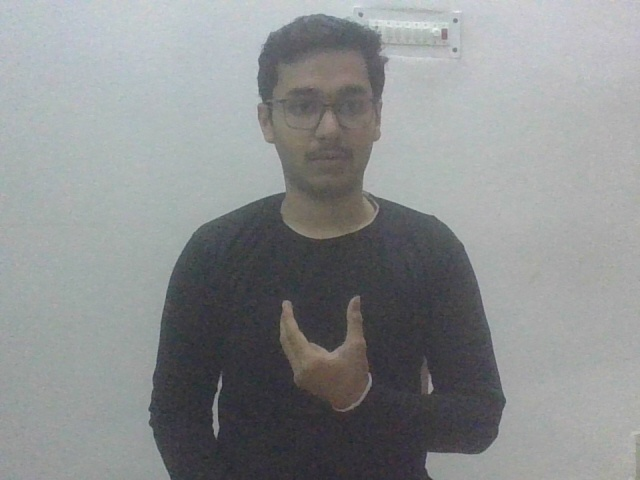U: (279, 285, 375, 420)
